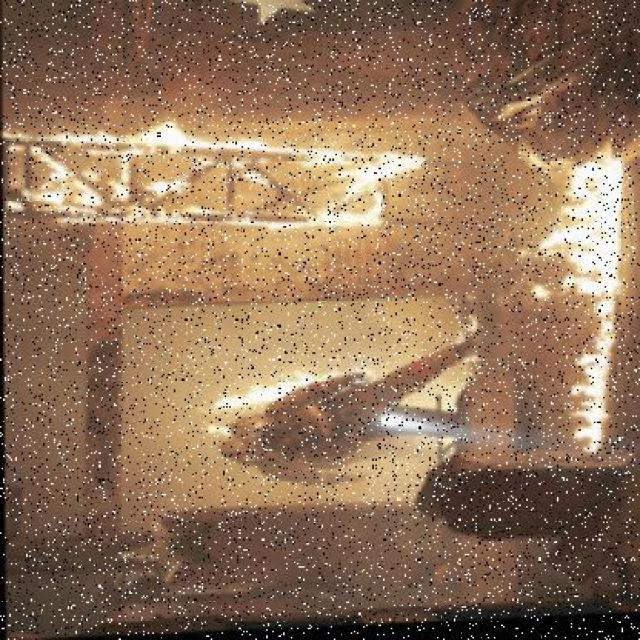fire: (552, 166, 624, 464)
